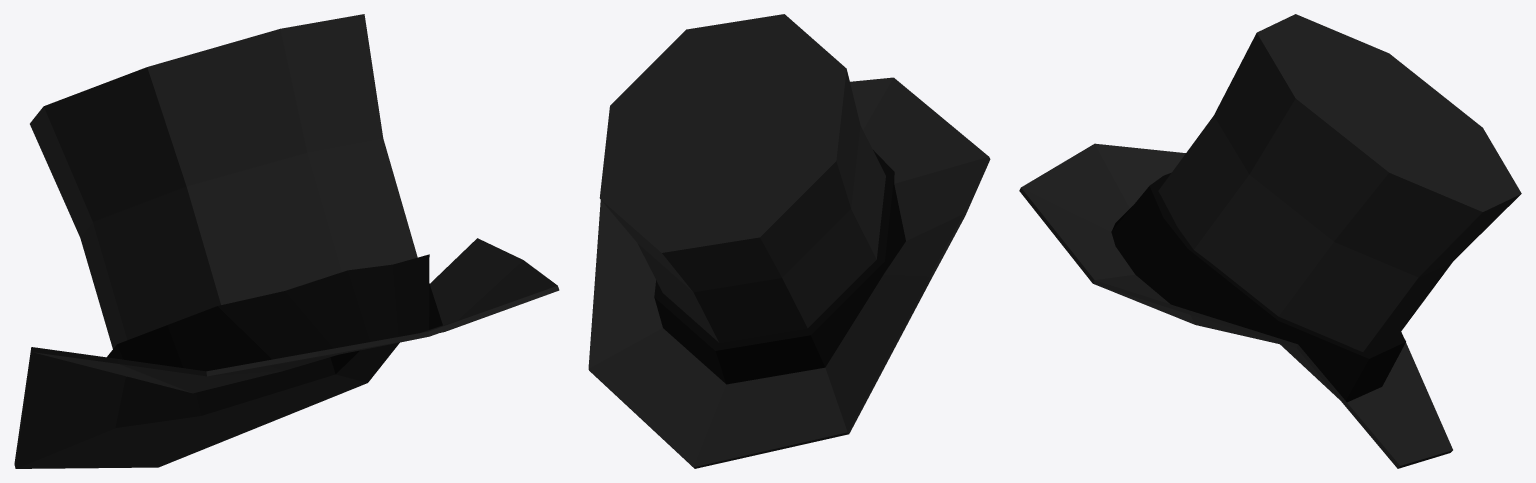
The model's file is CylinderHat.fbx.
The picture shows the model from 3 angles, left to right: view 1: azimuth 30°, elevation 25°; view 2: azimuth 150°, elevation 25°; view 3: azimuth 270°, elevation 25°; orthographic projection. The views are drawn at different scales.
Parts seen in each view (by area): view 1: CylinderHat; view 2: CylinderHat; view 3: CylinderHat.
Part boxes in pixels (x1,y1,x2,y2): CylinderHat: (14, 14, 559, 468); CylinderHat: (588, 14, 990, 468); CylinderHat: (1019, 14, 1521, 468).
Size of the model in its own units: 26.12 by 29.43 by 31.89.
